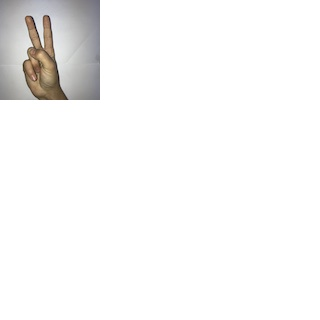scissors: (14, 11, 67, 96)
